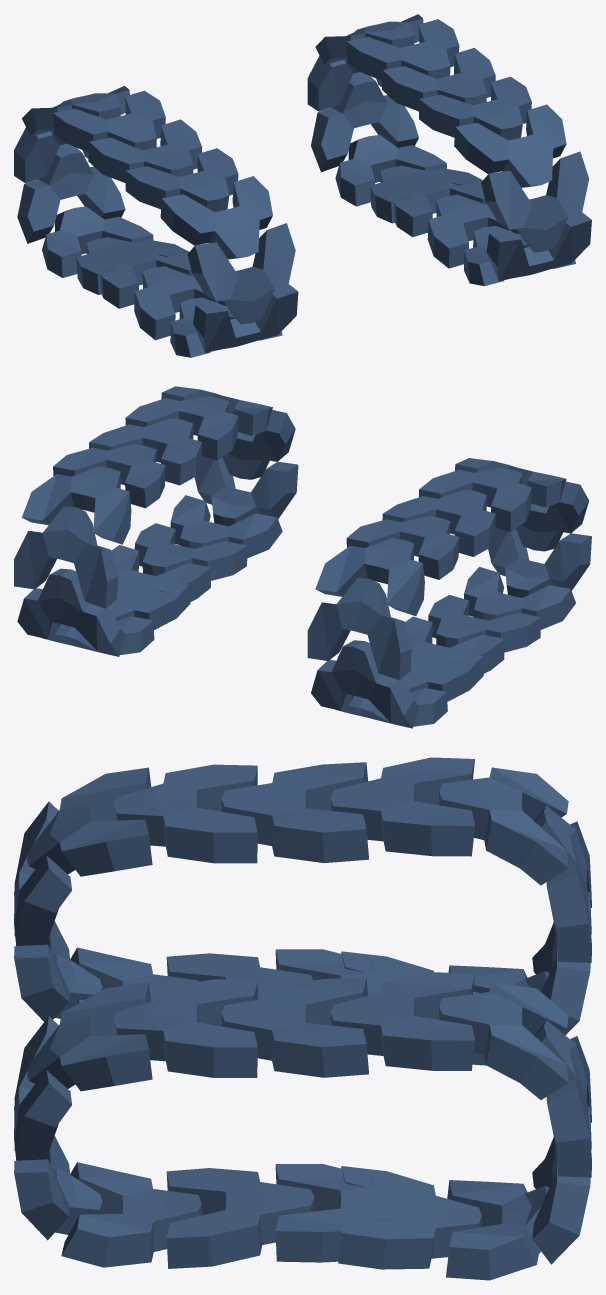
The model's file is Tank Threads.fbx.
The picture shows the model from 3 angles, top to bottom: view 1: azimuth 30°, elevation 25°; view 2: azimuth 150°, elevation 25°; view 3: azimuth 270°, elevation 25°; orthographic projection. The views are drawn at different scales.
Visible parts, largest first — view 1: Tank Threads; view 2: Tank Threads; view 3: Tank Threads.
Boxes of the visible parts, left/top/right/bottom form: Tank Threads: left=14, top=14, right=591, bottom=357; Tank Threads: left=14, top=386, right=591, bottom=728; Tank Threads: left=14, top=757, right=591, bottom=1280.
Size of the model in its own units: 14.07 by 5.57 by 12.15.
